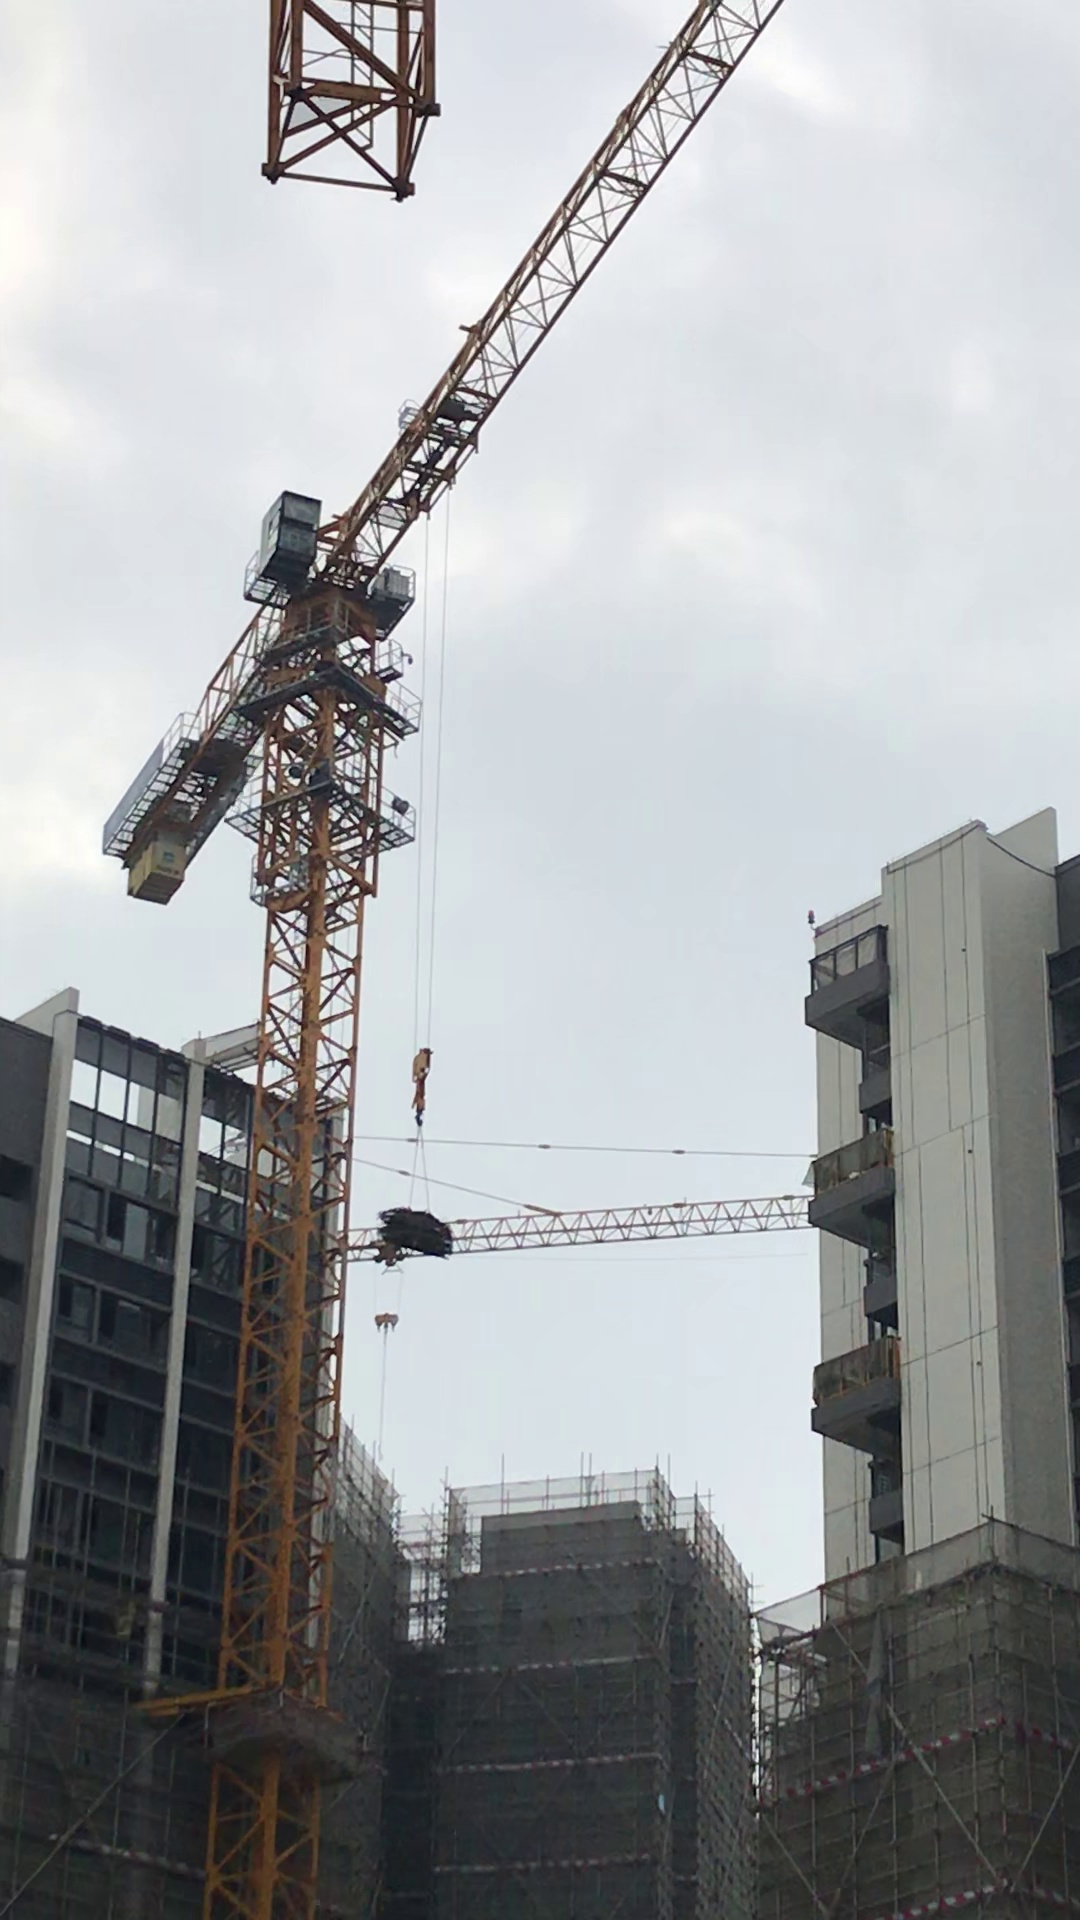board: (377, 1203, 456, 1261)
hook: (407, 1050, 439, 1127), (373, 1313, 400, 1333)
